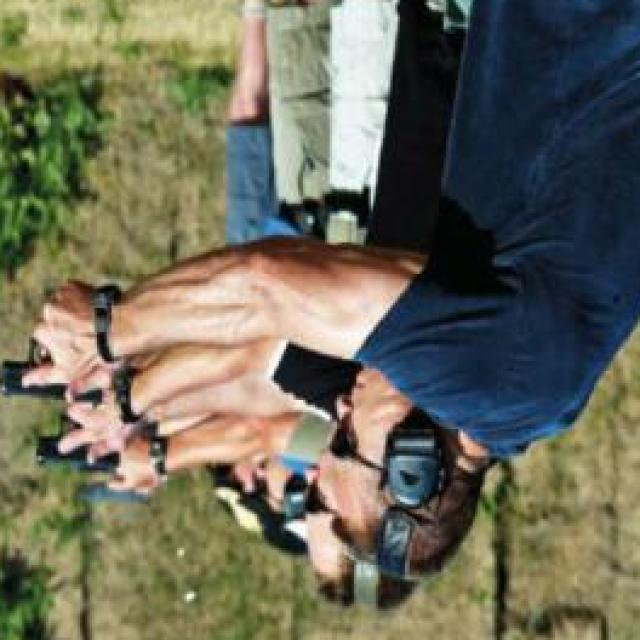pistol: (0, 337, 104, 407), (78, 426, 152, 509), (34, 411, 121, 475)
